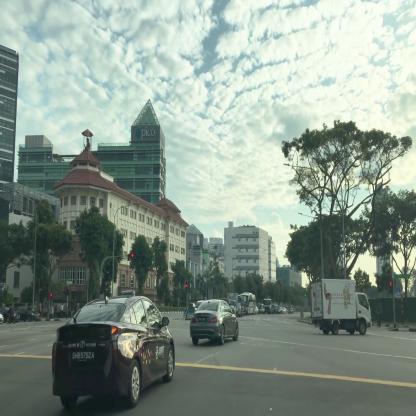red_traffic_light: (127, 254, 133, 258), (185, 281, 187, 293)
